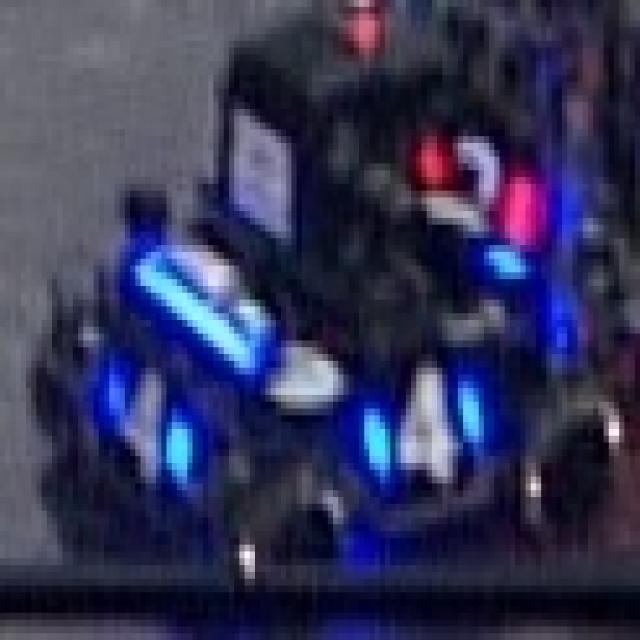B4: (349, 354, 489, 477), (99, 361, 192, 483)
R2: (416, 129, 546, 245)
